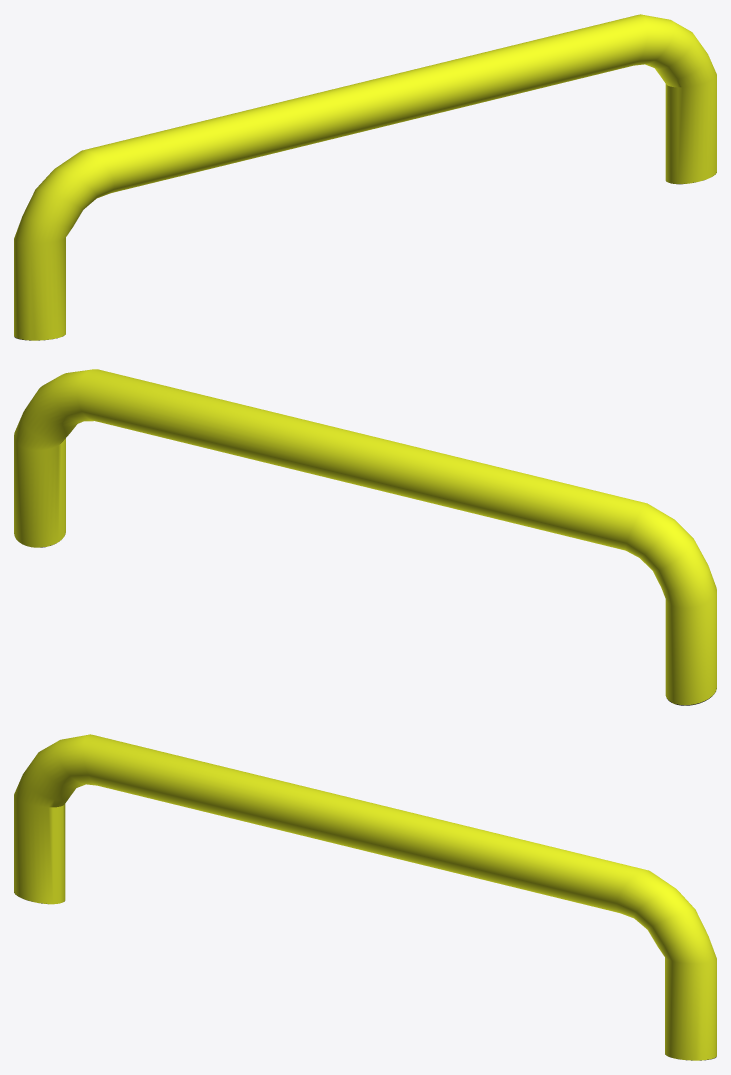
File: Baranda.Proyecto 1.fbx
The picture shows the model from 3 angles, top to bottom: view 1: azimuth 30°, elevation 25°; view 2: azimuth 150°, elevation 25°; view 3: azimuth 330°, elevation 25°; orthographic projection.
Parts seen in each view (by area): view 1: Cylinder.001; view 2: Cylinder.001; view 3: Cylinder.001.
Boxes of the visible parts, x1,y1,x2,y2 form: Cylinder.001: (14,14,716,340); Cylinder.001: (14,369,716,705); Cylinder.001: (14,734,716,1060).
Bounding box in the file's own units: 3084 × 751 × 201.
Materials: 1 (1 with a texture image).
